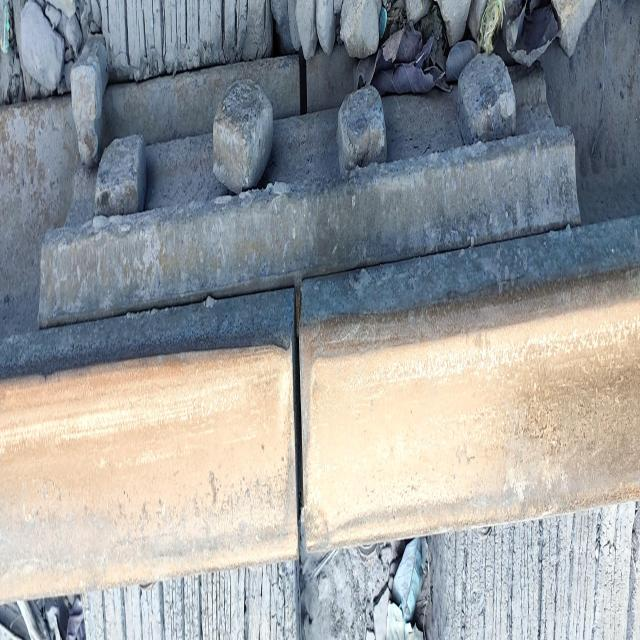Good Joint: (38, 36, 579, 344)
